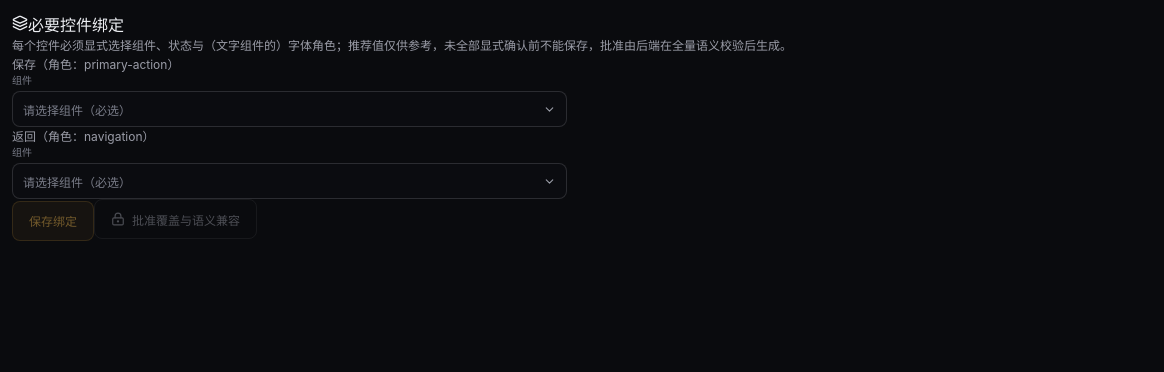
Test: BindingWorkbench（REM-01 / F-01 显式选择） › 展开后的弹出 listbox 继承绑定行的字段+控件名称（PR#25 审核 Major-01 收口）
The width and height of the screenshot is (1164, 372).
Note: 展开「组件」下拉，弹出 listbox 与 combobox 共享同一字段上下文名称
Click the dropdown named "组件 保存（角色：primary-action）".
click(289, 109)  # box [12,91,567,127]
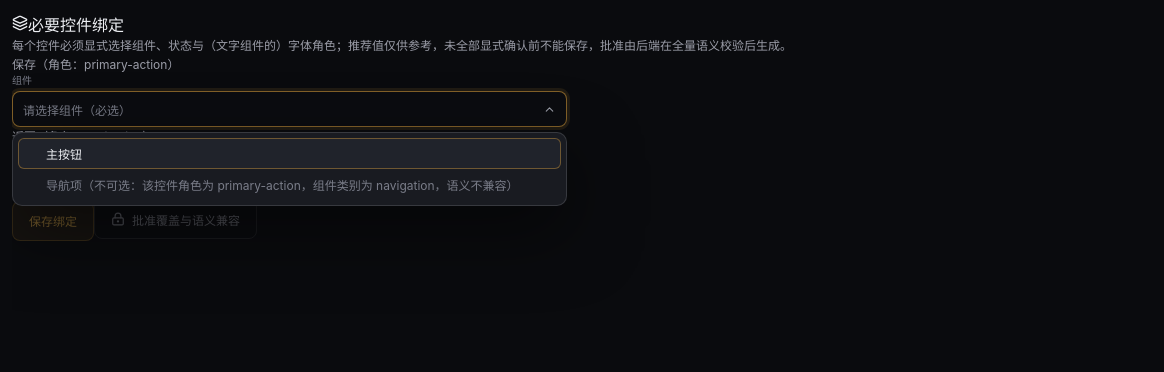
Result: the list named "组件 保存（角色：primary-action）" is shown at [12,132,567,206]
Note: 选中组件后状态/字体角色才出现，它们的弹出 listbox 同样继承字段+控件名称
Click the option "主按钮".
click(64, 155)  # box [18,138,561,169]
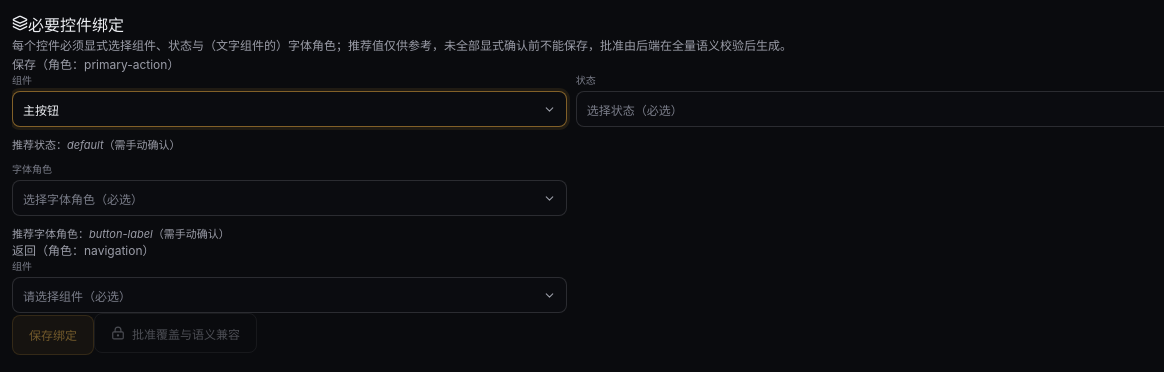
Click the dropdown named "状态 保存（角色：primary-action）".
click(870, 109)  # box [576,91,1163,127]
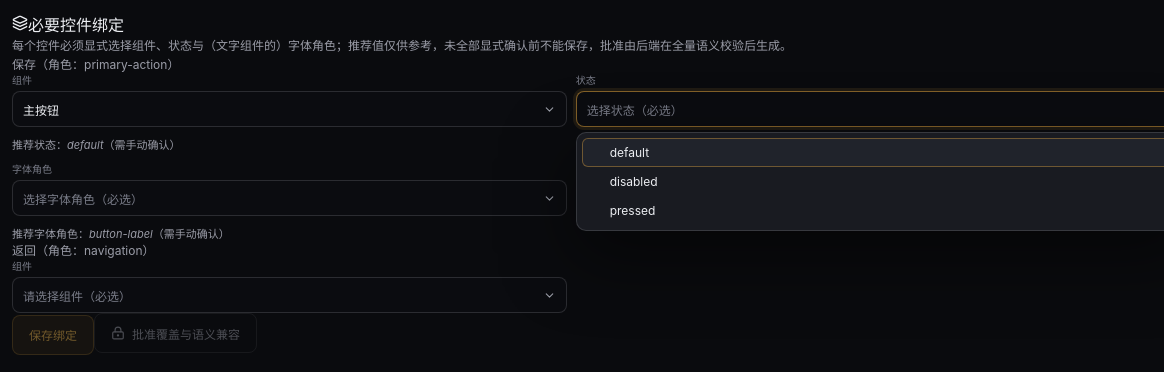
Click the dropdown named "状态 保存（角色：primary-action）".
click(870, 109)  # box [576,91,1163,127]
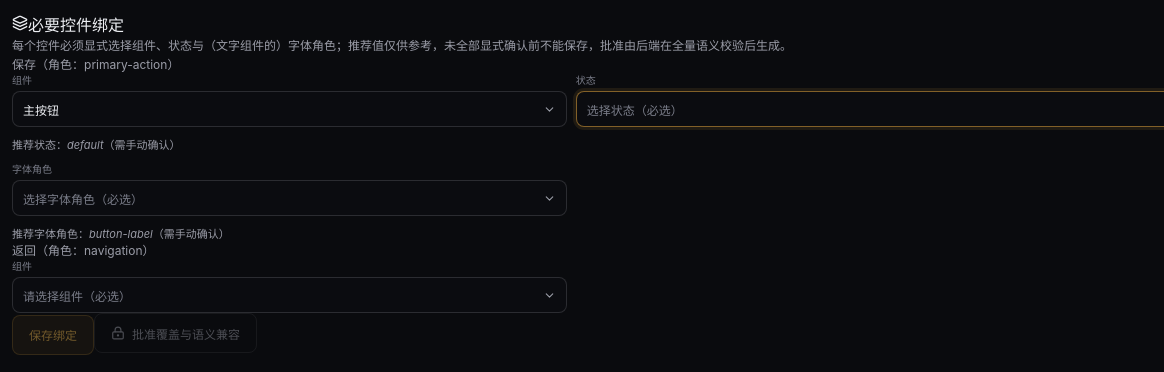
Click the dropdown named "字体角色 保存（角色：primary-action）".
click(289, 198)  # box [12,180,567,216]
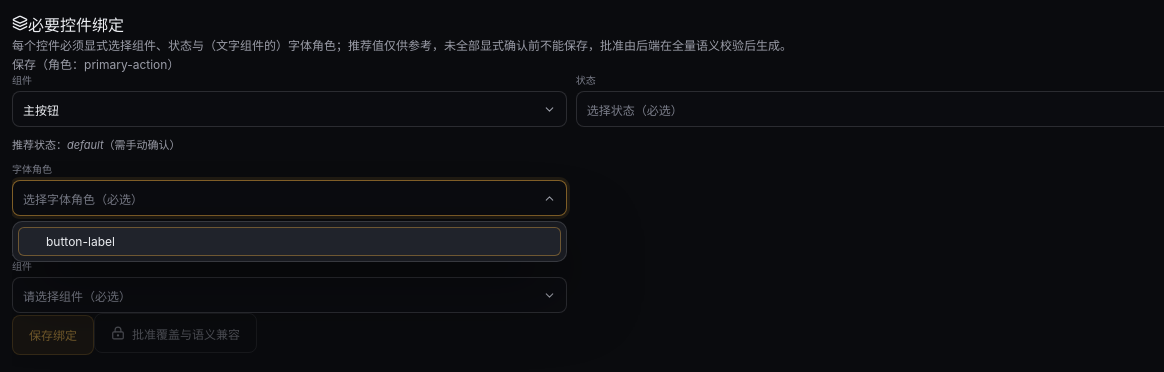
Result: the list named "字体角色 保存（角色：primary-action）" is shown at [12,221,567,262]
